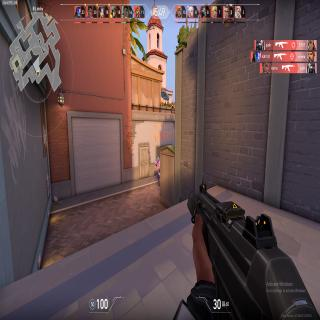ENEMY-BODY: (155, 156, 160, 188)
ENEMY-HEAD: (157, 156, 159, 162)
